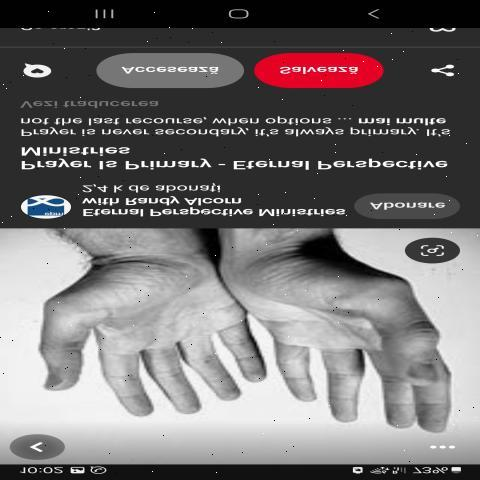Hands: (14, 232, 272, 456), (274, 235, 466, 458)
